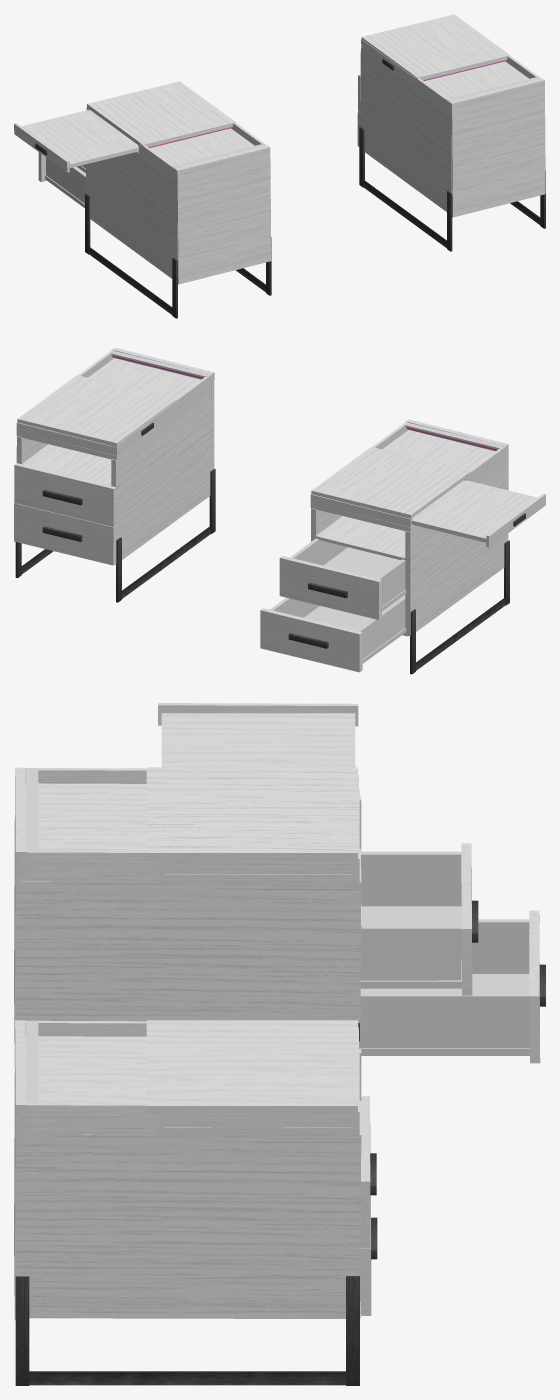
The model's file is NSPModell.glb.
3 renders of one model, top to bottom at view 1: azimuth 30°, elevation 25°; view 2: azimuth 150°, elevation 25°; view 3: azimuth 270°, elevation 25°, orthographic. The views are drawn at different scales.
Parts seen in each view (by area): view 1: Würfel.082, Würfel.023, Würfel.017, Würfel.088, Würfel.080, Würfel.025, Würfel.059, Würfel.026, Würfel.079, Würfel.074, Würfel.078, Würfel.027 (+4 smaller); view 2: Würfel.017, Würfel.088, Würfel.080, Würfel.025, Würfel.059, Würfel.072, Würfel.067, Würfel.038, Würfel.033, Würfel.069, Würfel.026, Würfel.079 (+24 smaller); view 3: Würfel.018, Würfel.087, Würfel.080, Würfel.025, Würfel.059, Würfel.073, Würfel.026, Würfel.079, Würfel.066, Würfel.065, Würfel.022, Würfel.061 (+22 smaller).
Boxes of the visible parts, x1=… form: Würfel.082: x1=175, y1=145, x2=271, y2=284; Würfel.023: x1=449, y1=78, x2=545, y2=217; Würfel.017: x1=360, y1=52, x2=452, y2=211; Würfel.088: x1=86, y1=153, x2=177, y2=278; Würfel.080: x1=87, y1=81, x2=235, y2=147; Würfel.025: x1=361, y1=14, x2=510, y2=80; Würfel.059: x1=21, y1=110, x2=138, y2=167; Würfel.026: x1=424, y1=61, x2=528, y2=98; Würfel.079: x1=150, y1=128, x2=254, y2=165; Würfel.074: x1=46, y1=157, x2=85, y2=203; Würfel.078: x1=89, y1=247, x2=172, y2=314; Würfel.027: x1=363, y1=180, x2=446, y2=247; Würfel.017: x1=111, y1=391, x2=213, y2=564; Würfel.088: x1=405, y1=462, x2=507, y2=636; Würfel.080: x1=311, y1=447, x2=470, y2=518; Würfel.025: x1=17, y1=375, x2=176, y2=446; Würfel.059: x1=411, y1=480, x2=537, y2=542; Würfel.072: x1=260, y1=608, x2=362, y2=672; Würfel.067: x1=279, y1=555, x2=381, y2=619; Würfel.038: x1=14, y1=463, x2=116, y2=526; Würfel.033: x1=14, y1=503, x2=116, y2=565; Würfel.069: x1=315, y1=516, x2=405, y2=560; Würfel.026: x1=88, y1=358, x2=200, y2=398; Würfel.079: x1=382, y1=430, x2=494, y2=470; Würfel.018: x1=16, y1=1130, x2=361, y2=1318; Würfel.087: x1=16, y1=878, x2=361, y2=1048; Würfel.080: x1=146, y1=767, x2=357, y2=859; Würfel.025: x1=146, y1=1020, x2=357, y2=1112; Würfel.059: x1=161, y1=713, x2=355, y2=767; Würfel.073: x1=360, y1=993, x2=529, y2=1048; Würfel.026: x1=25, y1=1036, x2=146, y2=1103; Würfel.079: x1=25, y1=783, x2=146, y2=850; Würfel.066: x1=360, y1=925, x2=461, y2=980; Würfel.065: x1=361, y1=851, x2=461, y2=906; Würfel.022: x1=29, y1=1371, x2=345, y2=1385; Würfel.061: x1=16, y1=850, x2=157, y2=882.
Bounding box in the file's own units: 9.52 × 3.05 × 5.25.
Materials: 60 (54 with a texture image).
